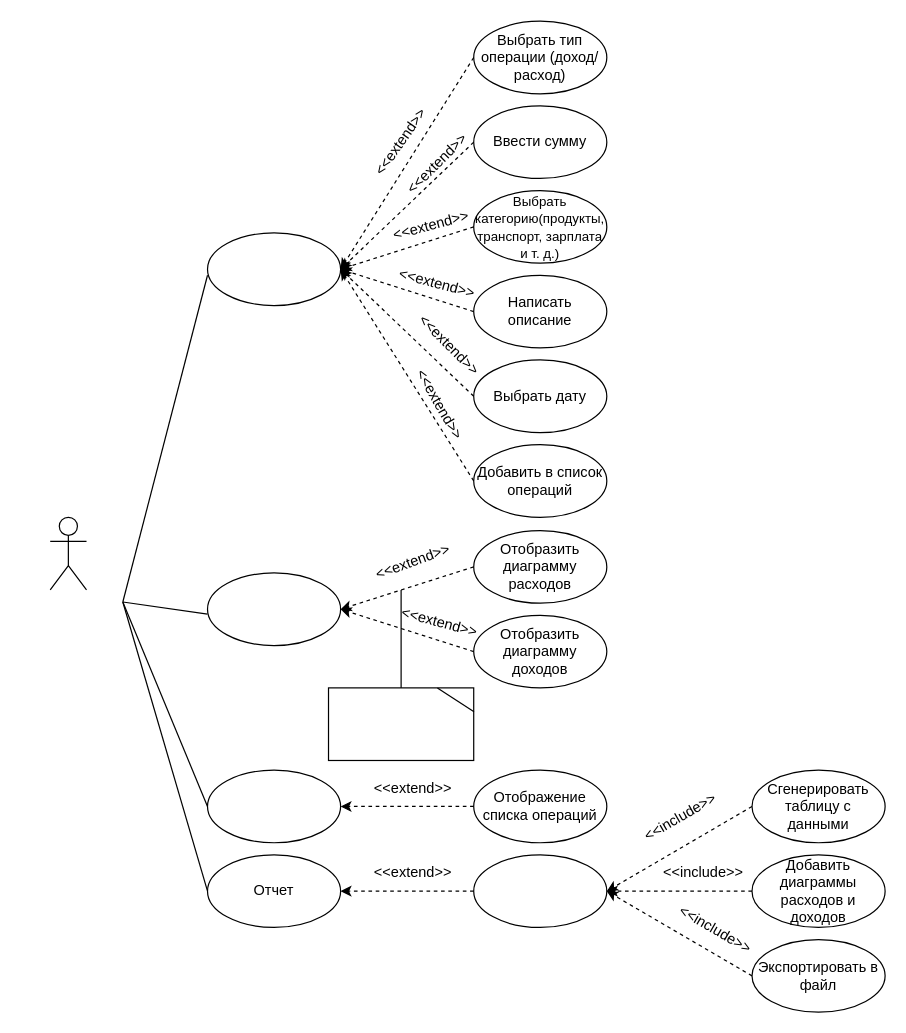
Some shapes in this 906 by 1033 pixel diagram are drawn without their labels. Each missing label, with the centre of its shape:
Доступно после добавления в список доходов и расходов: (x=400, y=723)
История: (x=273, y=806)
Кнопка "+": (x=273, y=269)
Пользователь: (x=68, y=553)
Сохранение отчета в Excel: (x=540, y=890)
Статистика: (x=273, y=609)
